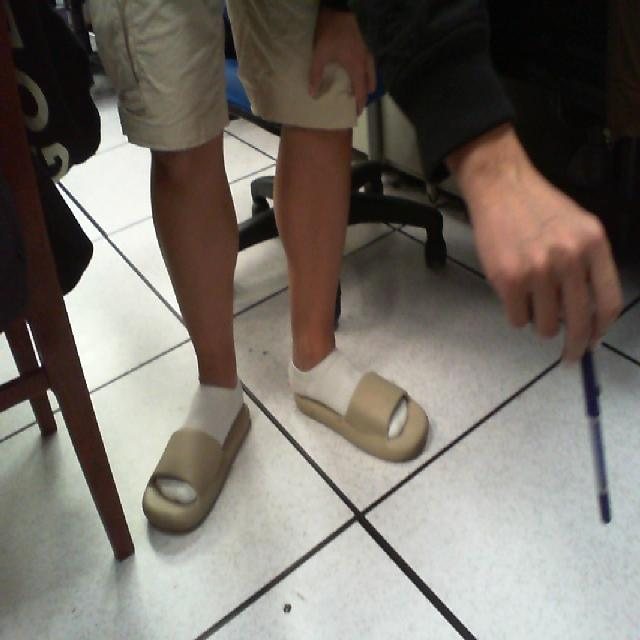Pen: (569, 325, 629, 558)
